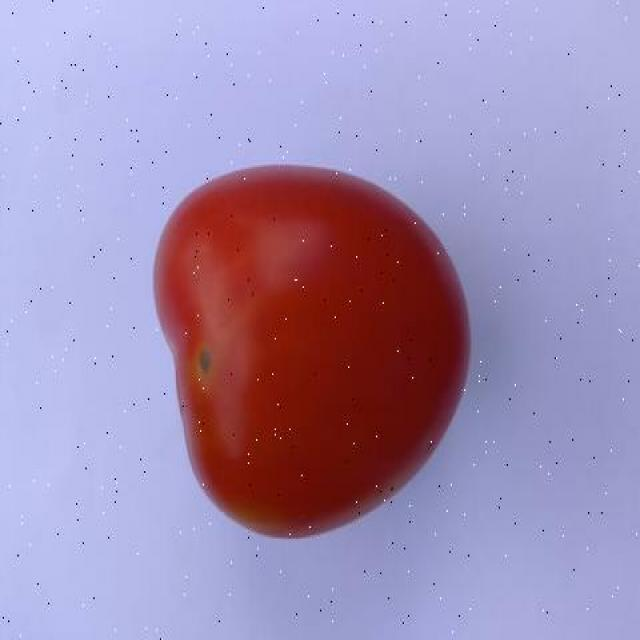tomato: (152, 162, 473, 537)
